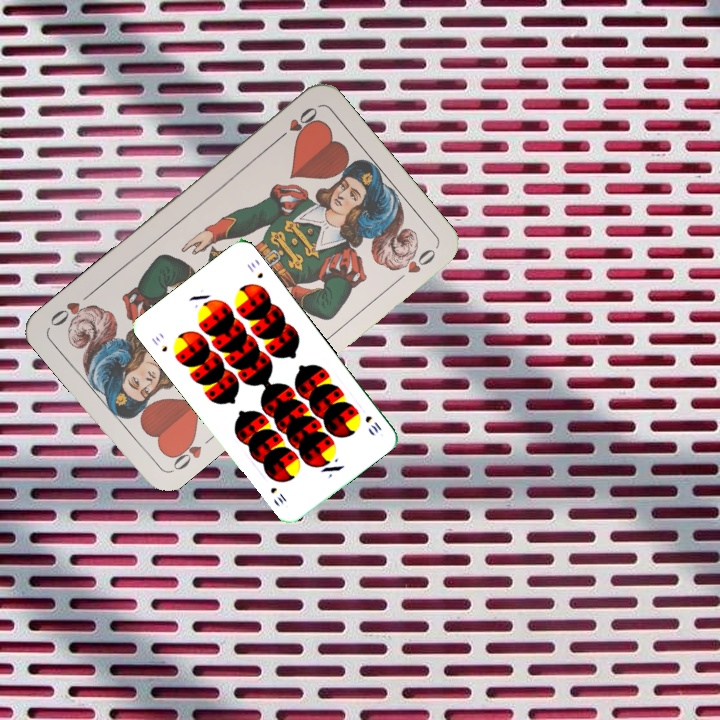HO: (270, 102, 320, 145), (164, 430, 205, 475)
S10: (361, 412, 384, 436), (147, 332, 170, 354)
